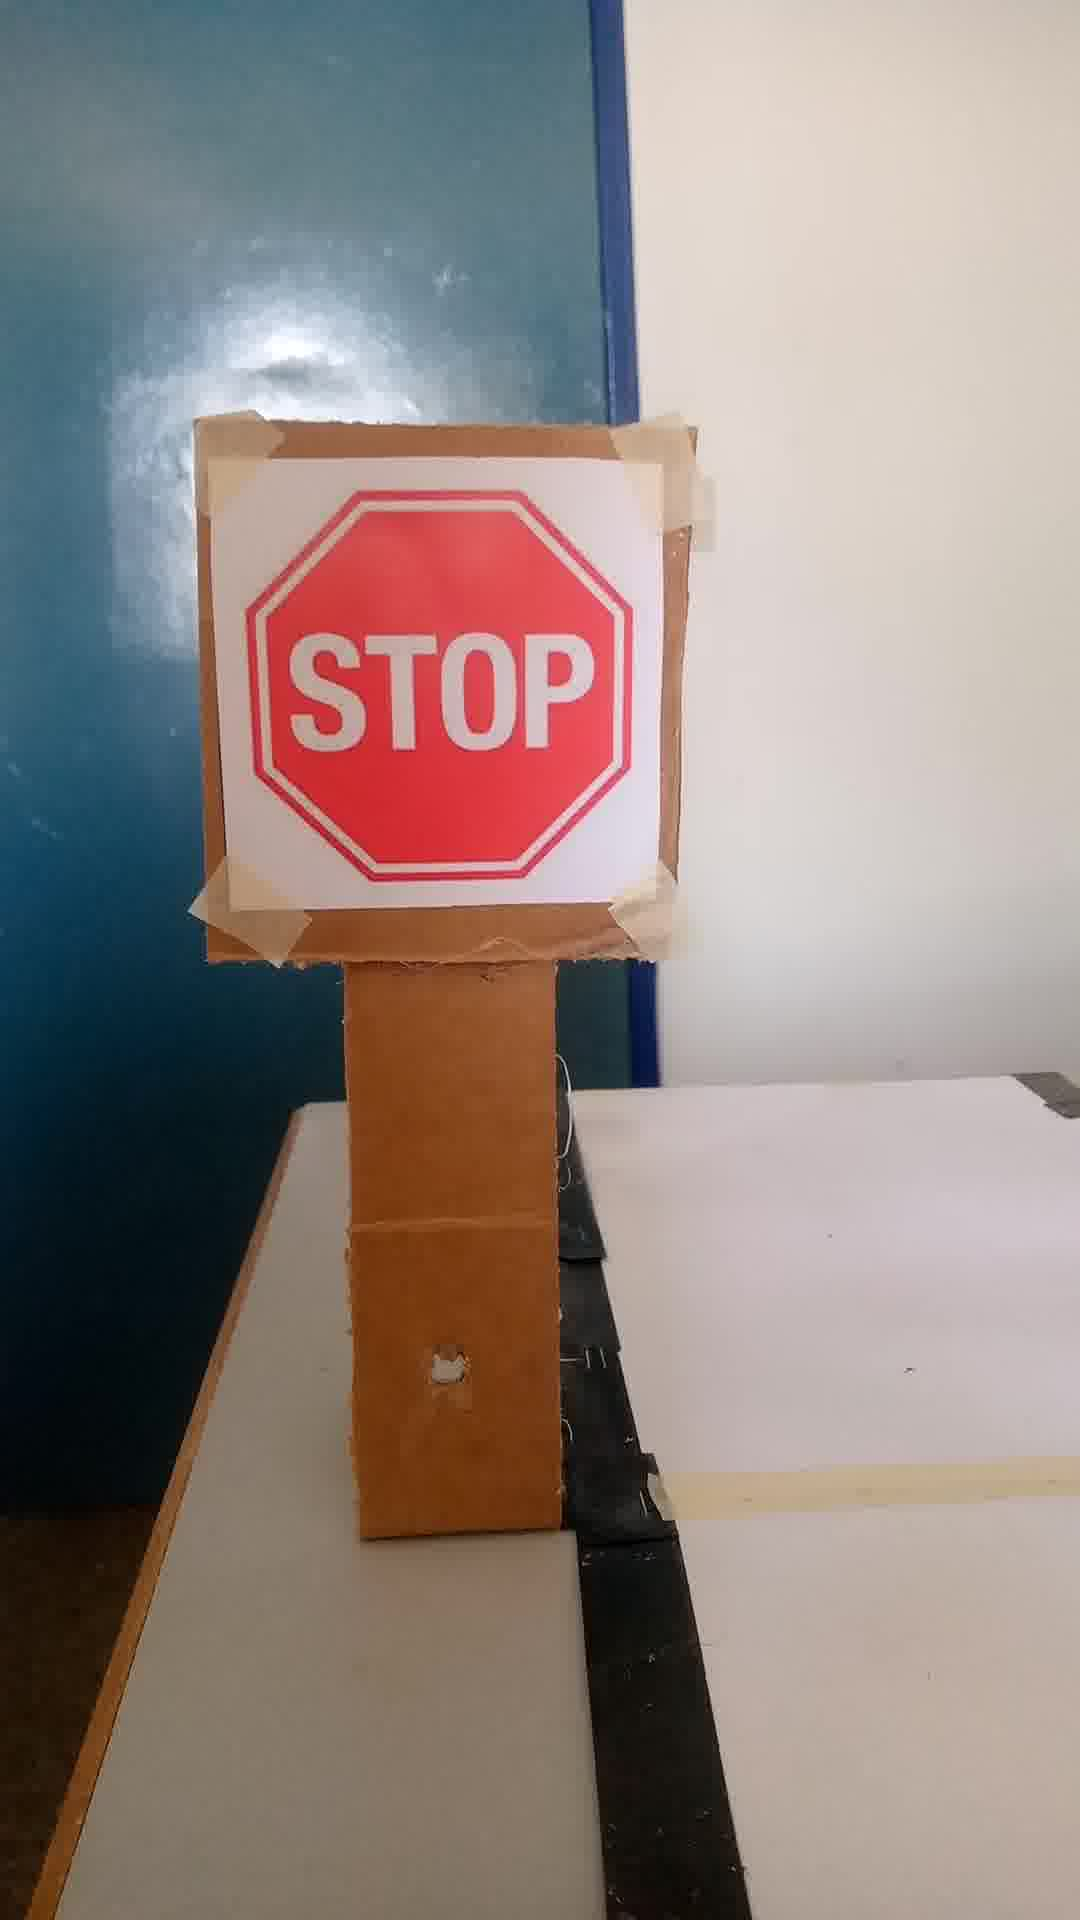panel101: (187, 451, 665, 906)
